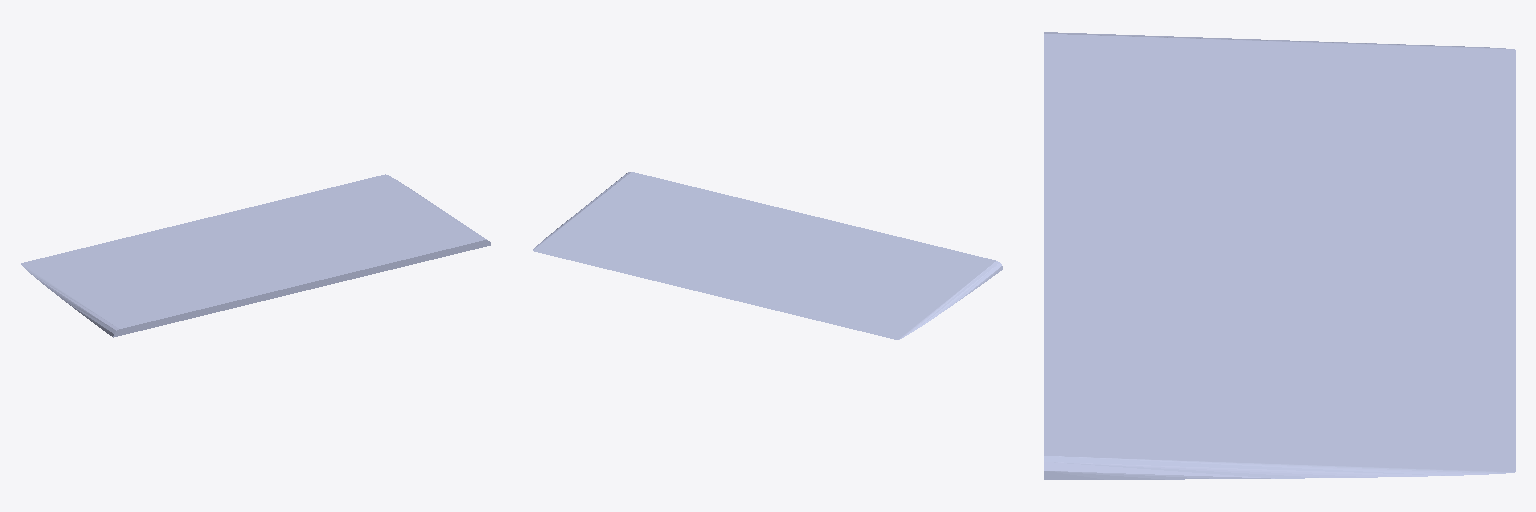
robot.urdf — ramp.SLDPRT:
<?xml version="1.0" encoding="utf-8"?>
<!-- This URDF was automatically created by SolidWorks to URDF Exporter! Originally created by [author] ([email redacted]) 
     Commit Version: 1.5.1-0-g916b5db  Build Version: 1.5.7152.31018
     For more information, please see http://wiki.ros.org/sw_urdf_exporter -->
<robot
  name="ramp.SLDPRT">
  <link
    name="ramp_new.SLDPRT">
    <inertial>
      <origin
        xyz="0.54997 0.16614 0.00631059999999999"
        rpy="0 0 0" />
      <mass
        value="5.1598" />
      <inertia
        ixx="0.071469"
        ixy="-0.00013965"
        ixz="-1.1196E-05"
        iyy="0.50754"
        iyz="-0.0013514"
        izz="0.5788" />
    </inertial>
    <visual>
      <origin
        xyz="0 0 0"
        rpy="1.5707963267949 0 0" />
      <geometry>
        <mesh
          filename="package://ramp_new.SLDPRT/meshes/ramp_new.SLDPRT.STL" />
      </geometry>
      <material
        name="">
        <color
          rgba="0.79216 0.81961 0.93333 1" />
        <texture
          filename="package://ramp_new.SLDPRT/textures/" />
      </material>
    </visual>
    <collision>
      <origin
        xyz="0 0 0"
        rpy="1.5707963267949 0 0" />
      <geometry>
        <mesh
          filename="package://ramp_new.SLDPRT/meshes/ramp_new.SLDPRT.STL" />
      </geometry>
    </collision>
  </link>
</robot>

--- Render facts (derived) ---
3 views of the same robot in one strip: view 1: azimuth 30°, elevation 25°; view 2: azimuth 150°, elevation 25°; view 3: azimuth 270°, elevation 25° (orthographic).
Robot: ramp.SLDPRT — 1 links, 0 joints (none); root link ramp_new.SLDPRT; default pose: every joint at zero.
Links seen in each view (by area): view 1: ramp_new.SLDPRT; view 2: ramp_new.SLDPRT; view 3: ramp_new.SLDPRT.
Boxes of the visible links, x1,y1,x2,y2 form: ramp_new.SLDPRT: (21, 174, 490, 337); ramp_new.SLDPRT: (533, 172, 1002, 339); ramp_new.SLDPRT: (1044, 32, 1515, 479).
Size in the robot's own frame: 1.1 by 0.5 by 0.019 metres.
Meshes: 1 distinct files referenced, 1 mesh visuals loaded (1 binary STL).